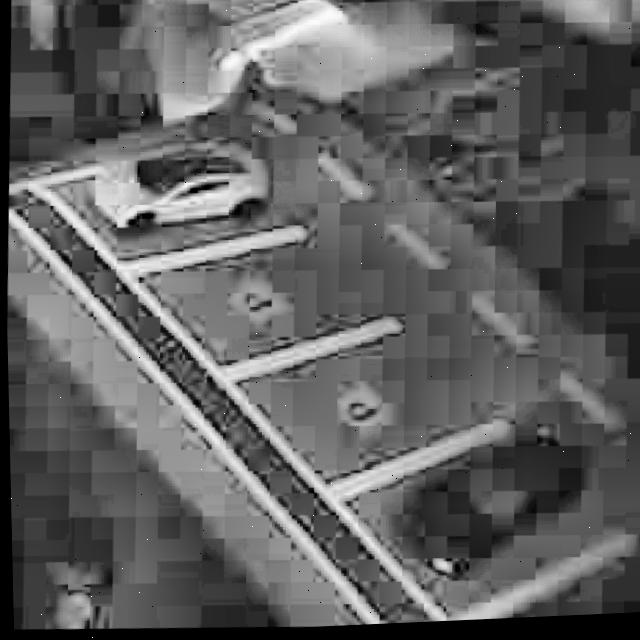car: (90, 143, 274, 237)
